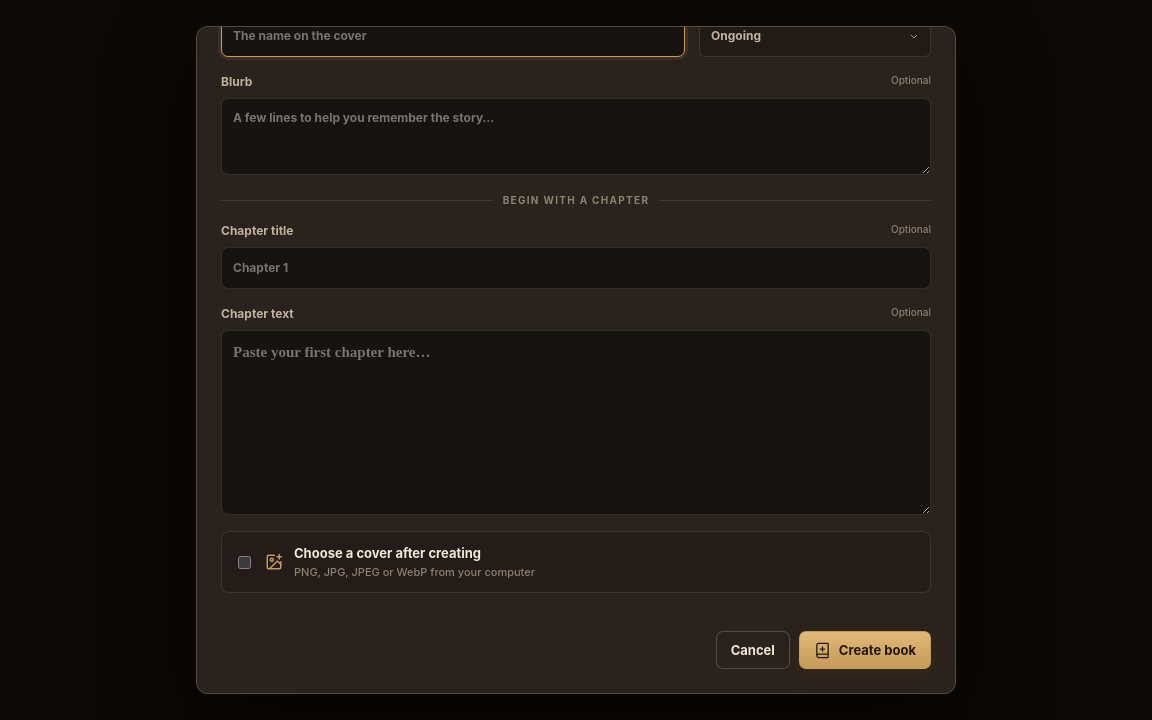
AddBookModal › requests confirmation before the close button discards a dirty form
(page scrolled)
Click the checkbox labelled "Choose a cover": point(244, 562) [238, 556, 251, 569]
(page scrolled)
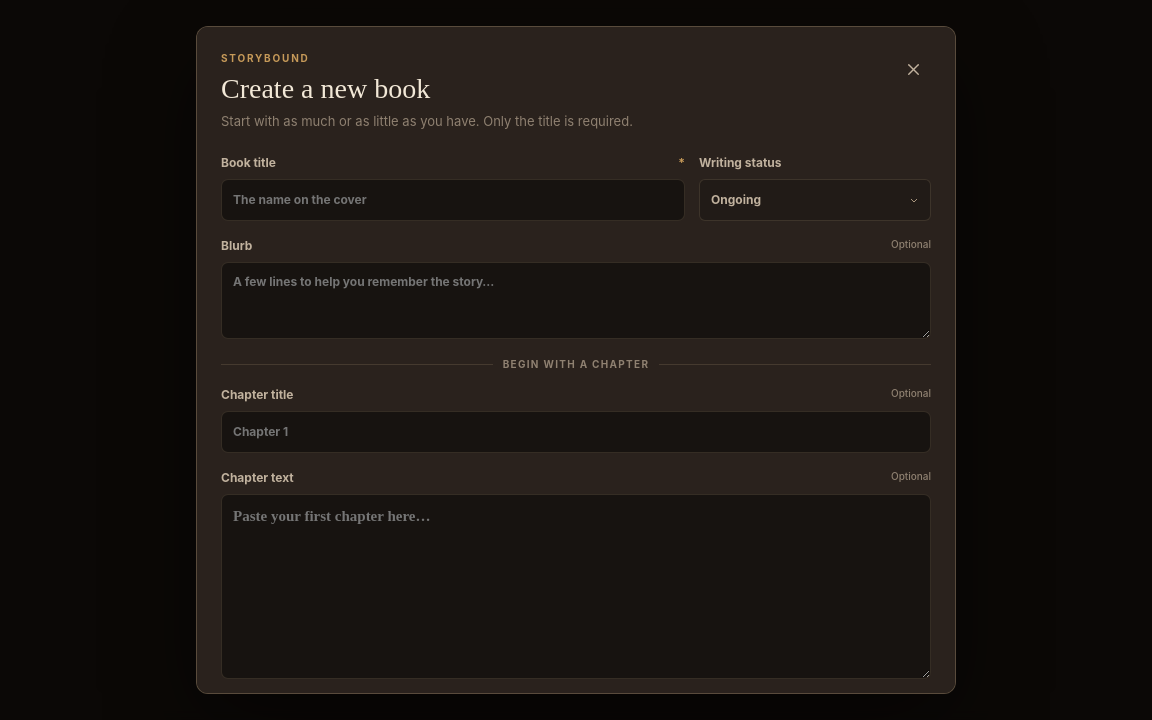
Click the button named "Close dialog": point(913, 69) [895, 51, 931, 87]
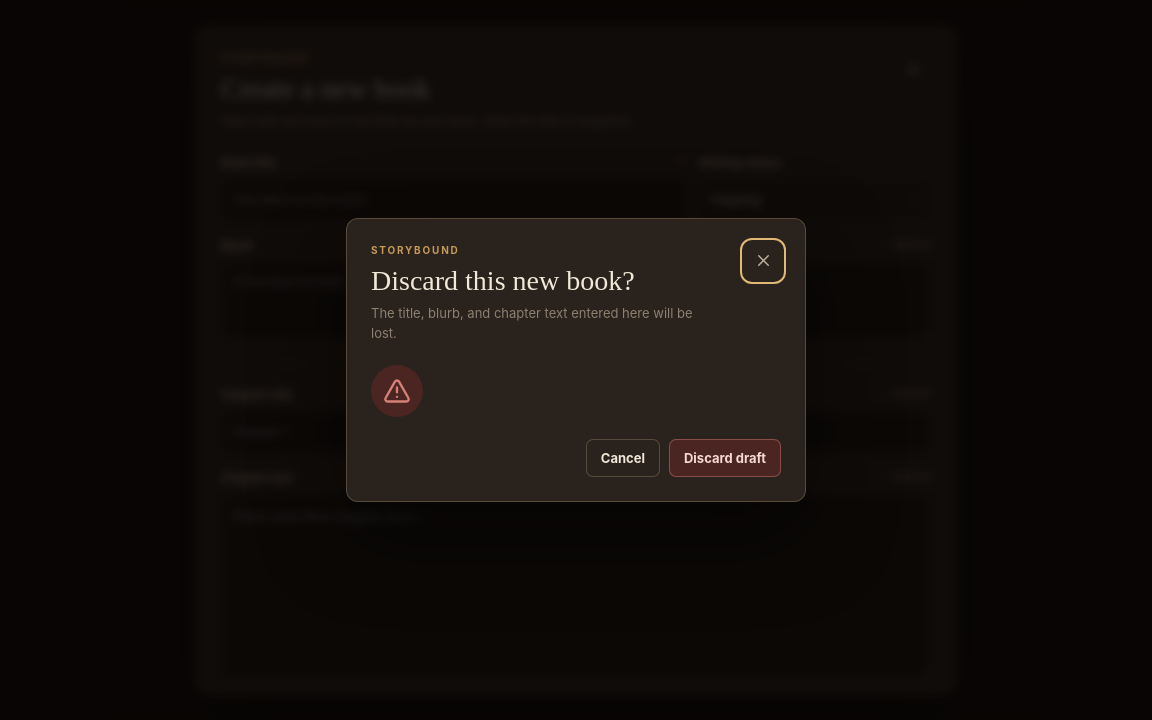
Expected: the dialog "Discard this new book?" is shown
